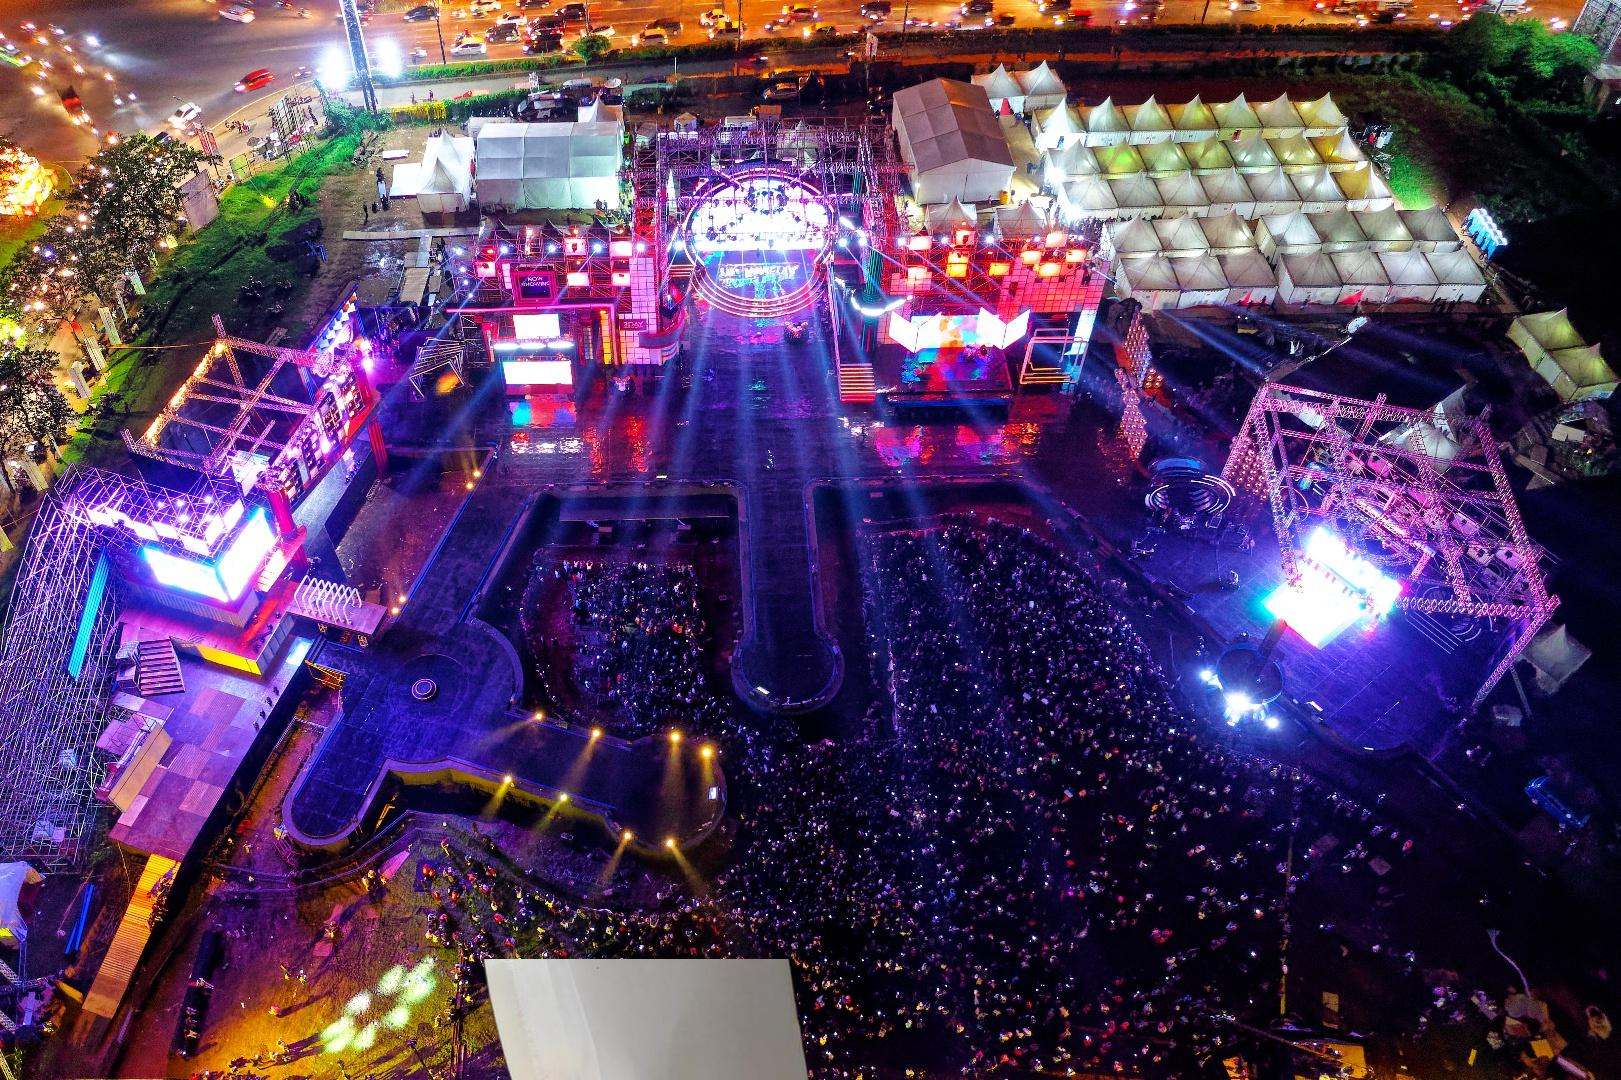battery: (440, 1079, 851, 1080)
paper: (477, 959, 830, 1080)
